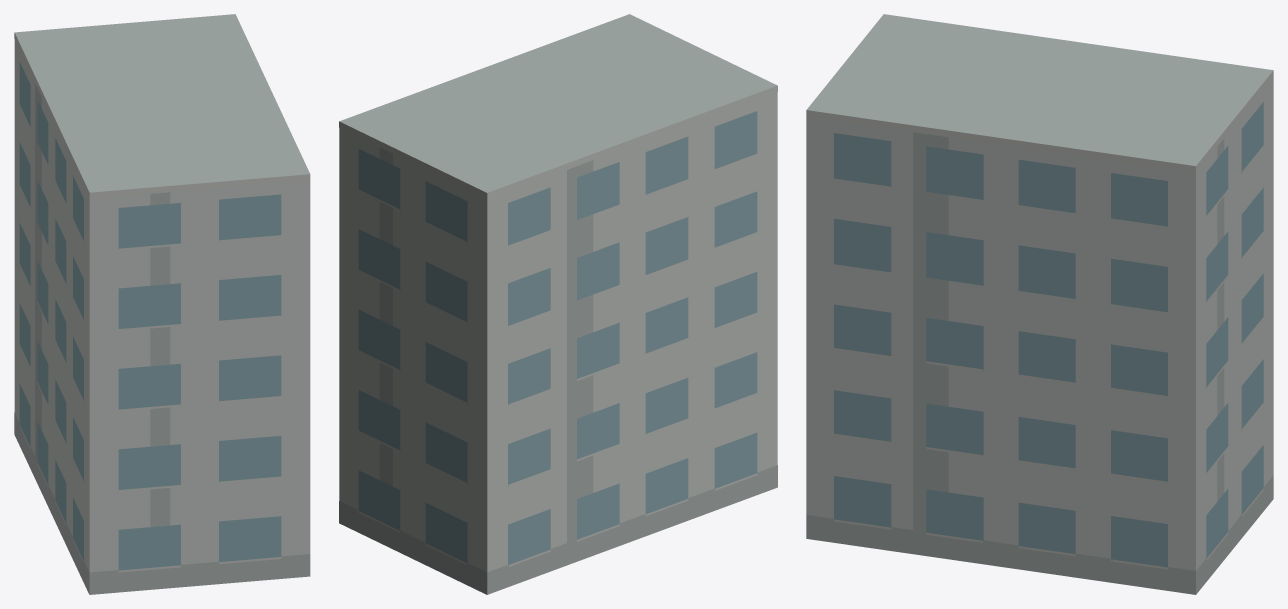
File: residential-1413f4b8-1a84-4a98-b93a-fe1e21543f6e.glb
3 views of the same model, side by side, from view 1: azimuth 30°, elevation 25°; view 2: azimuth 150°, elevation 25°; view 3: azimuth 270°, elevation 25° (orthographic). The views are drawn at different scales.
Parts seen in each view (by area): view 1: residential-1413f4b8-1a84-4a98-b93a-fe1e21543f6e.tmp; view 2: residential-1413f4b8-1a84-4a98-b93a-fe1e21543f6e.tmp; view 3: residential-1413f4b8-1a84-4a98-b93a-fe1e21543f6e.tmp.
Part boxes in pixels (x1=…): residential-1413f4b8-1a84-4a98-b93a-fe1e21543f6e.tmp: x1=14, y1=14, x2=310, y2=594; residential-1413f4b8-1a84-4a98-b93a-fe1e21543f6e.tmp: x1=339, y1=14, x2=777, y2=594; residential-1413f4b8-1a84-4a98-b93a-fe1e21543f6e.tmp: x1=806, y1=14, x2=1273, y2=594.
Size of the model in its own units: 11.62 by 15.25 by 15.07.
